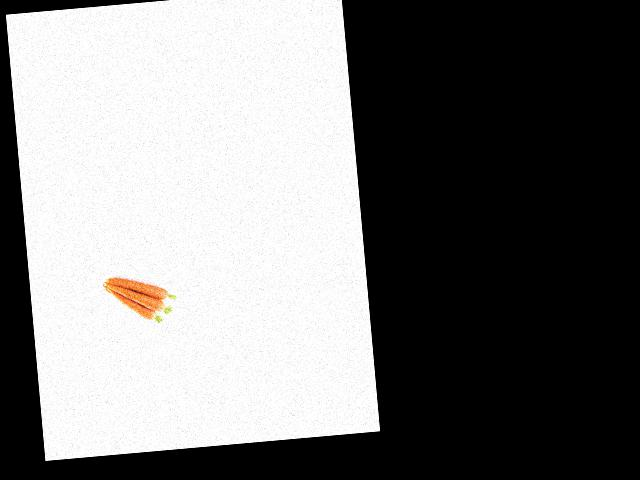carrot: (108, 274, 167, 306)
